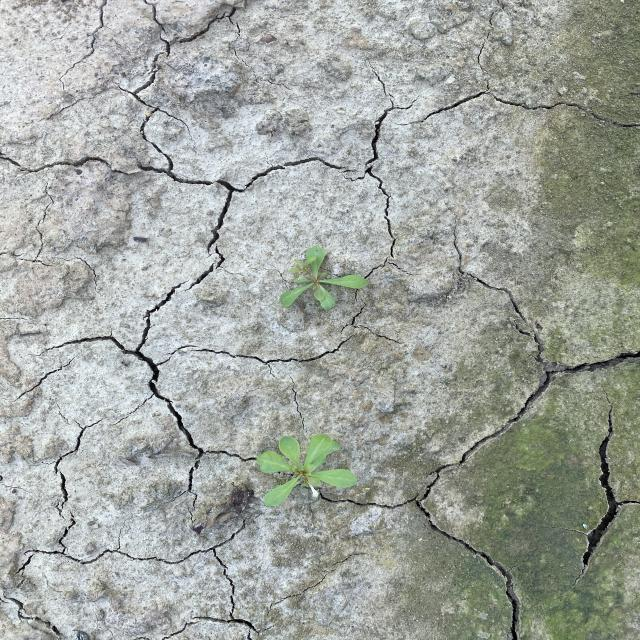Carpetweed: (254, 432, 358, 509), (278, 244, 370, 312)
